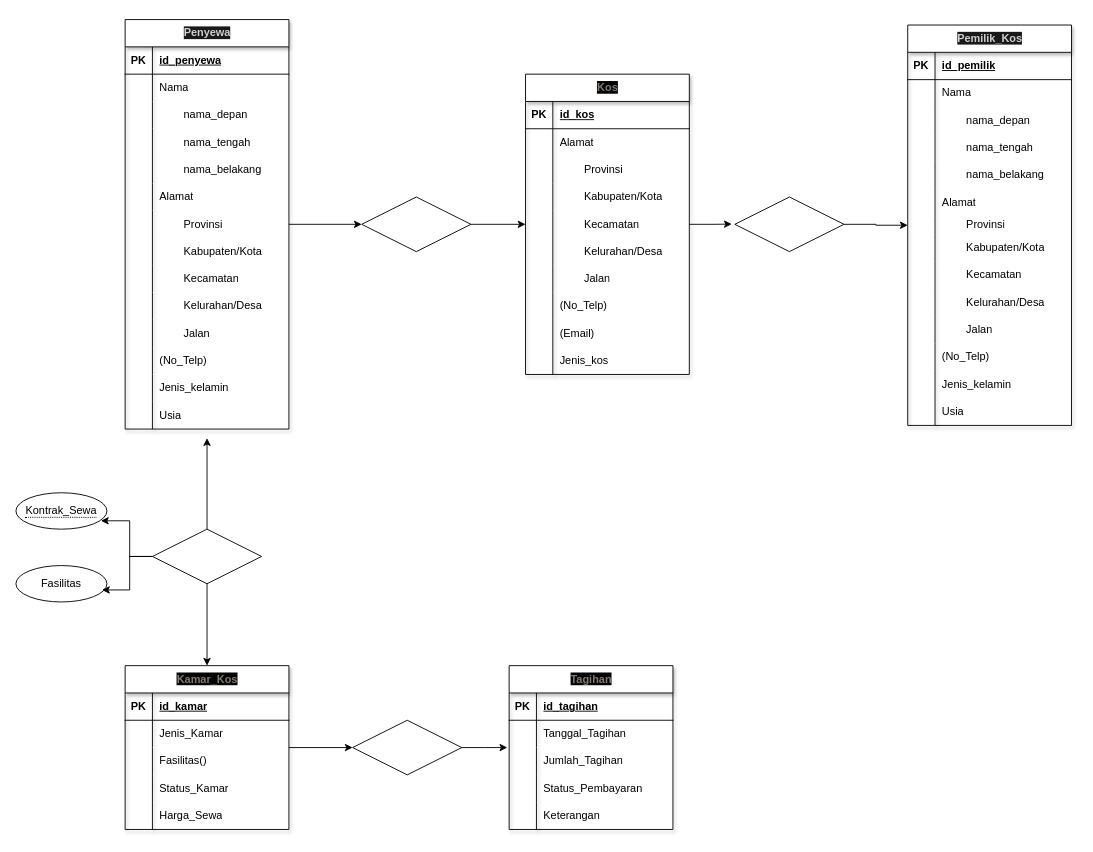
This 1093x852 diagram has some shape labels left out. The shapes that lost their labels are listed below. From the top down, each one's centre as x and y in pixels, then its label:
At [416,224]: "Mencari".
At [789,224]: "Memiliki".
At [207,556]: "Memesan".
At [407,747]: "Membayar".
